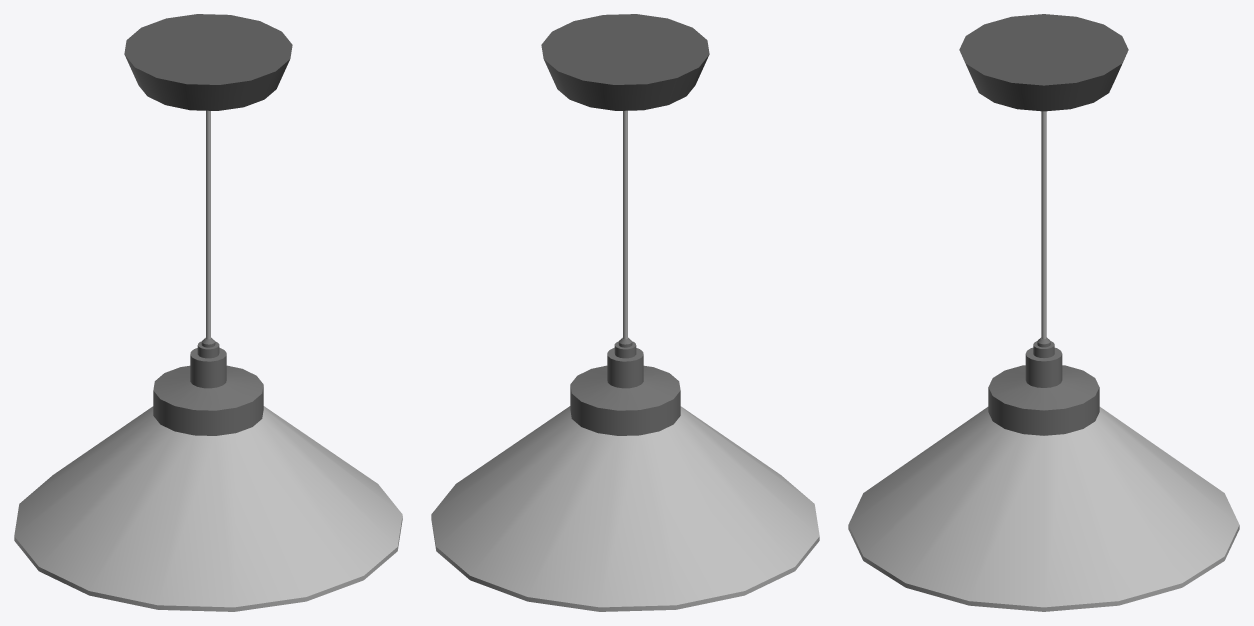
Rendered from Lamp03.fbx.
3 renders of one model, left to right at view 1: azimuth 30°, elevation 25°; view 2: azimuth 150°, elevation 25°; view 3: azimuth 270°, elevation 25°, orthographic.
Parts seen in each view (by area): view 1: Lamp03; view 2: Lamp03; view 3: Lamp03.
Boxes of the visible parts, x1=… form: Lamp03: x1=14, y1=14, x2=402, y2=611; Lamp03: x1=431, y1=14, x2=819, y2=611; Lamp03: x1=848, y1=14, x2=1239, y2=611.
Bounding box in the file's own units: 0.5554 × 0.5554 × 0.7512.
